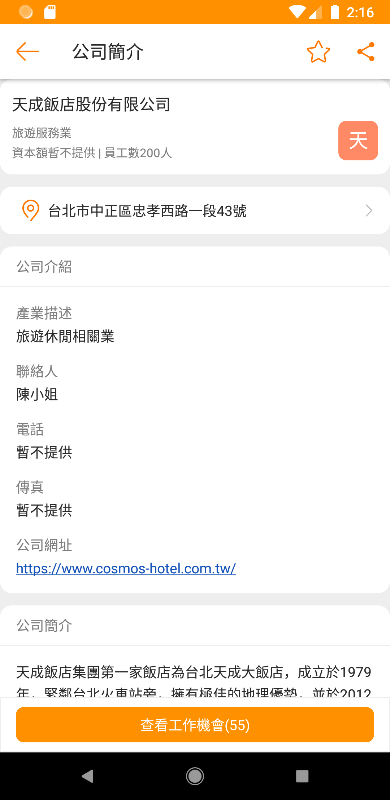button: (12, 700, 382, 748), (12, 33, 48, 73), (353, 35, 383, 68), (305, 37, 333, 68), (357, 194, 379, 226)
